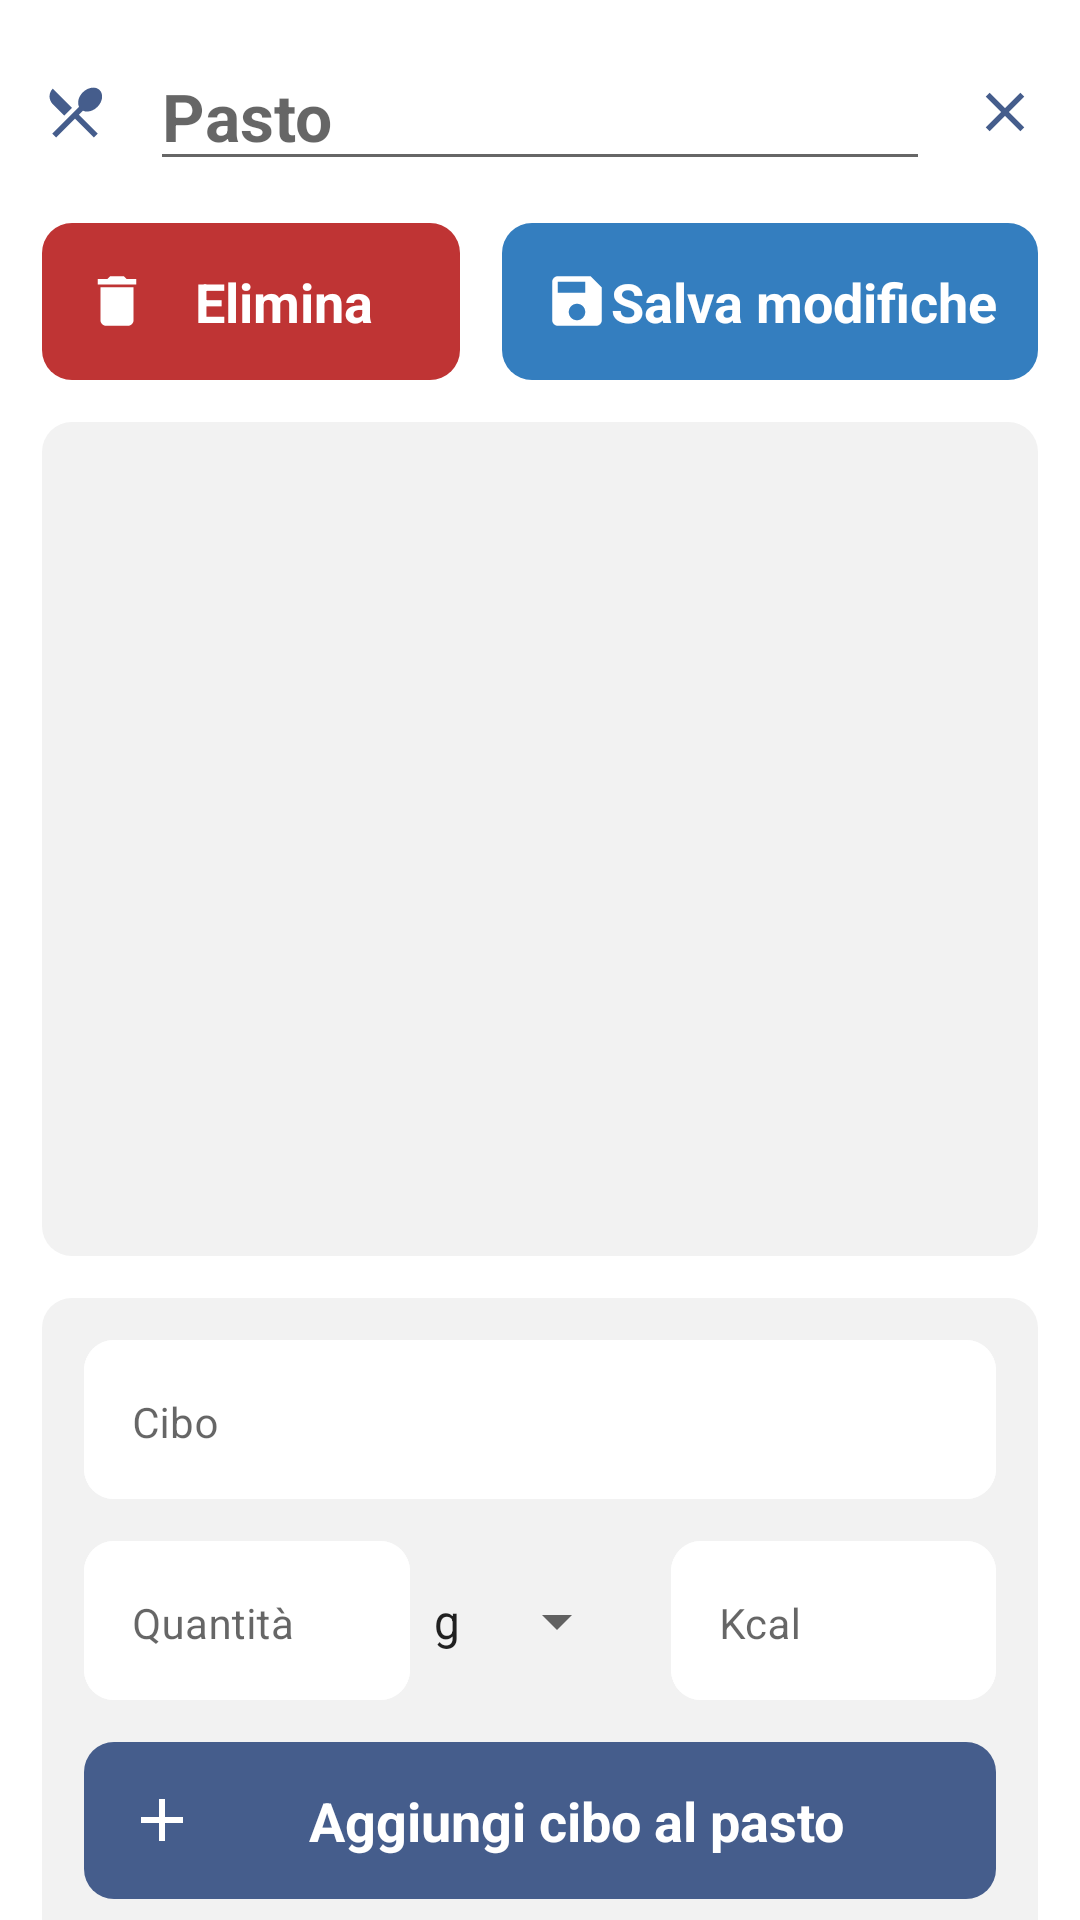

Locate icon controls on the screen. Image size 1080w x 1920h, boxes as (x1=x1, y1=y1, x2=x2, y2=y2).
meal fit close: (x1=986, y1=93, x2=1024, y2=131)
mealplanner: (x1=49, y1=87, x2=102, y2=138)
